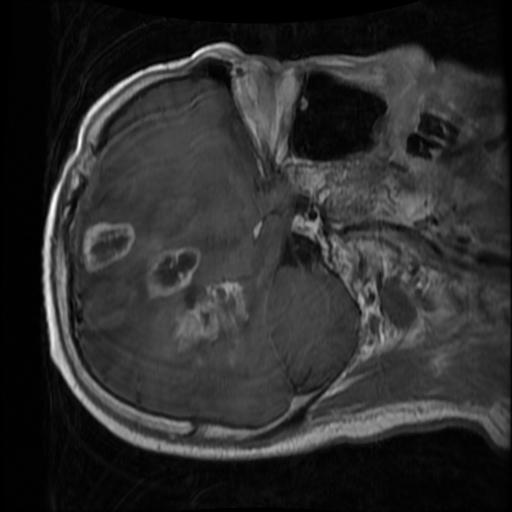glioma: (148, 247, 247, 348)
